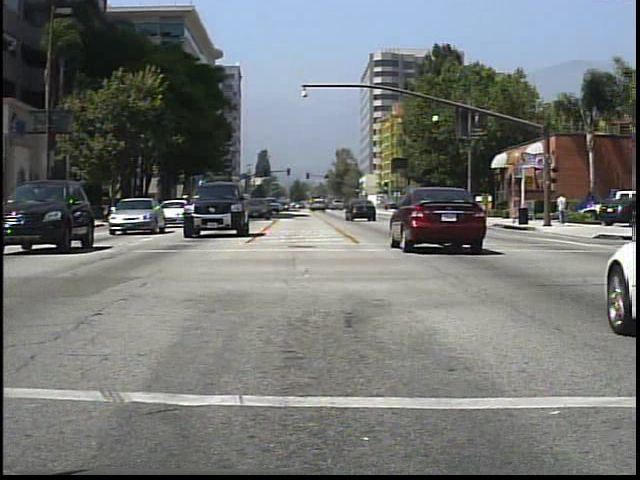person: (556, 191, 571, 226), (511, 190, 522, 224)
